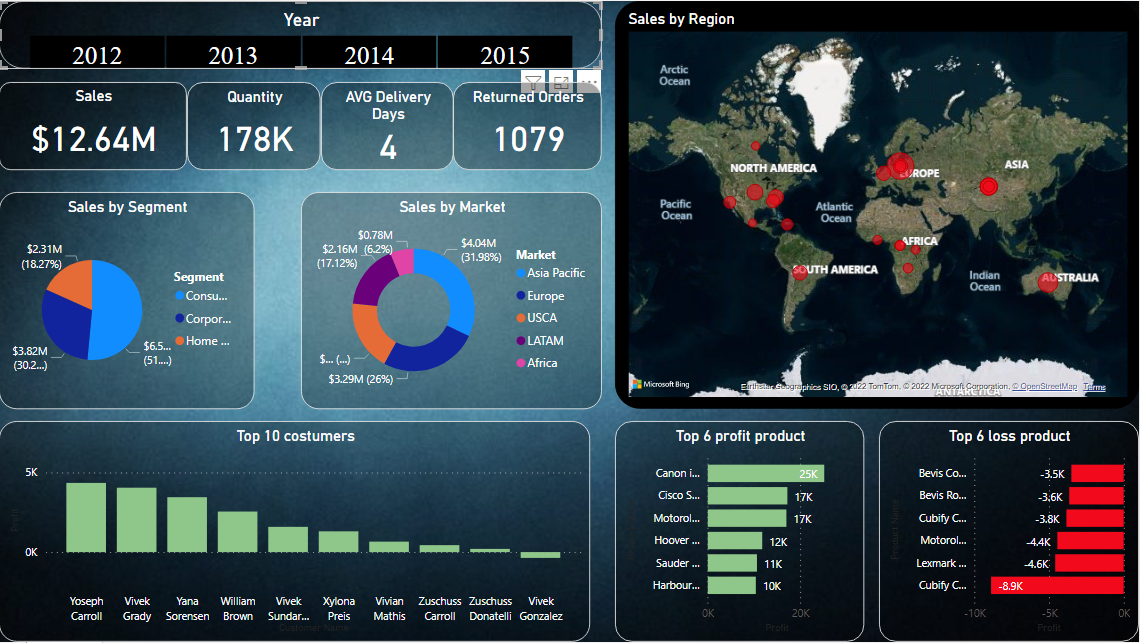

Layout of this report page (visuals, bound fields, positions):
{"tool":"powerbi","page":{"name":"Page 1","canvas":[1280,720],"ordinal":0},"visuals":[{"type":"card","title":"Sales","fields":{"Values":["Orders.Sales"]},"box":[0,91.2,210.8,99],"z":0},{"type":"card","title":"Quantity","fields":{"Values":["Orders.Quantity"]},"box":[210.8,91.2,150.4,99],"z":1000},{"type":"card","title":"AVG Delivery Days","fields":{"Values":["Orders.Delivery Days"]},"box":[361.1,91.2,149.1,99],"z":2000},{"type":"slicer","title":"Year","fields":{"Values":["Orders.Year"]},"box":[0,0,677.3,75.8],"z":3000},{"type":"card","title":"Returned Orders","fields":{"Values":["Returns.Return Orders"]},"box":[510.2,91.2,167.1,99],"z":4000},{"type":"map","fields":{"Size":["Orders.Sales"],"Category":["Orders.Region"]},"box":[691.9,0,588.6,458.3],"z":5000},{"type":"barChart","title":"Top 6 profit product","fields":{"Y":["Orders.Profit"],"Category":["Orders.Product Name"]},"box":[691.4,471.6,280.2,248],"z":6000},{"type":"pieChart","fields":{"Y":["Orders.Sales"],"Category":["Orders.Segment"]},"box":[0,214.6,286.6,244.2],"z":7000},{"type":"donutChart","fields":{"Y":["Orders.Sales"],"Category":["Orders.Market"]},"box":[339.2,214.5,338.1,243.7],"z":8000},{"type":"columnChart","title":"Top 10 costumers","fields":{"Category":["Orders.Customer Name"],"Y":["Orders.Profit"]},"box":[0,471.6,664.4,248],"z":9000},{"type":"barChart","title":"Top 6 loss product","fields":{"Y":["Orders.Profit"],"Category":["Orders.Product Name"]},"box":[988.3,471.6,291.7,248],"z":10000}]}

Visuals, with their boxes in screenshot pixels (x1, y1, x2, y2), scaled from the page's 1280x720 canvas onto the 1140x643 screenshot:
"Sales" card: x1=0 y1=81 x2=188 y2=170
"Quantity" card: x1=188 y1=81 x2=322 y2=170
"AVG Delivery Days" card: x1=322 y1=81 x2=454 y2=170
"Year" slicer: x1=0 y1=0 x2=603 y2=68
"Returned Orders" card: x1=454 y1=81 x2=603 y2=170
map - Orders.Sales x Orders.Region: x1=616 y1=0 x2=1139 y2=409
"Top 6 profit product" barChart: x1=616 y1=421 x2=865 y2=642
pieChart - Orders.Sales x Orders.Segment: x1=0 y1=192 x2=255 y2=410
donutChart - Orders.Sales x Orders.Market: x1=302 y1=192 x2=603 y2=409
"Top 10 costumers" columnChart: x1=0 y1=421 x2=592 y2=642
"Top 6 loss product" barChart: x1=880 y1=421 x2=1139 y2=642
